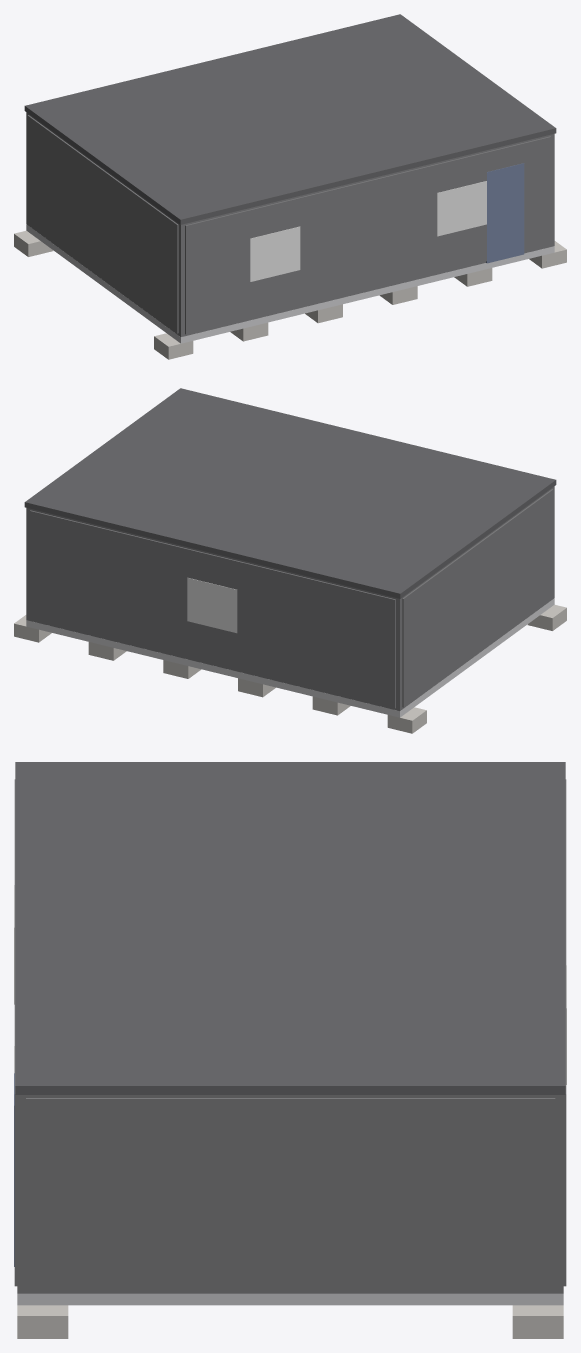
Rendered from Studio-30-Base-CharcoalSilver-LOD1.glb.
3 views of the same model, one above another, from view 1: azimuth 30°, elevation 25°; view 2: azimuth 150°, elevation 25°; view 3: azimuth 270°, elevation 25° (orthographic). The views are drawn at different scales.
Visible parts, largest first — view 1: RoofMain, ExteriorPanelsStandard, WindowsStandard, BaseFrame, FoundationBlocks, EntryDoor, ExteriorShell; view 2: RoofMain, ExteriorPanelsStandard, BaseFrame, FoundationBlocks, ExteriorShell, WindowsStandard; view 3: RoofMain, ExteriorPanelsStandard, BaseFrame, ExteriorShell, FoundationBlocks.
Part boxes in pixels (x1=…): RoofMain: x1=24, y1=14, x2=556, y2=224; ExteriorPanelsStandard: x1=27, y1=115, x2=551, y2=334; WindowsStandard: x1=250, y1=181, x2=486, y2=281; BaseFrame: x1=26, y1=224, x2=554, y2=343; FoundationBlocks: x1=14, y1=230, x2=566, y2=359; EntryDoor: x1=486, y1=163, x2=524, y2=263; ExteriorShell: x1=26, y1=112, x2=554, y2=336; RoofMain: x1=24, y1=388, x2=556, y2=598; ExteriorPanelsStandard: x1=30, y1=489, x2=553, y2=708; BaseFrame: x1=26, y1=598, x2=554, y2=717; FoundationBlocks: x1=14, y1=604, x2=566, y2=733; ExteriorShell: x1=26, y1=486, x2=554, y2=710; WindowsStandard: x1=187, y1=577, x2=237, y2=633; RoofMain: x1=15, y1=762, x2=565, y2=1094; ExteriorPanelsStandard: x1=14, y1=779, x2=566, y2=1290; BaseFrame: x1=17, y1=1293, x2=563, y2=1305; ExteriorShell: x1=17, y1=1095, x2=563, y2=1293; FoundationBlocks: x1=17, y1=1305, x2=563, y2=1338.
Bounding box in the file's own units: 9.6 × 3.17 × 6.53.
